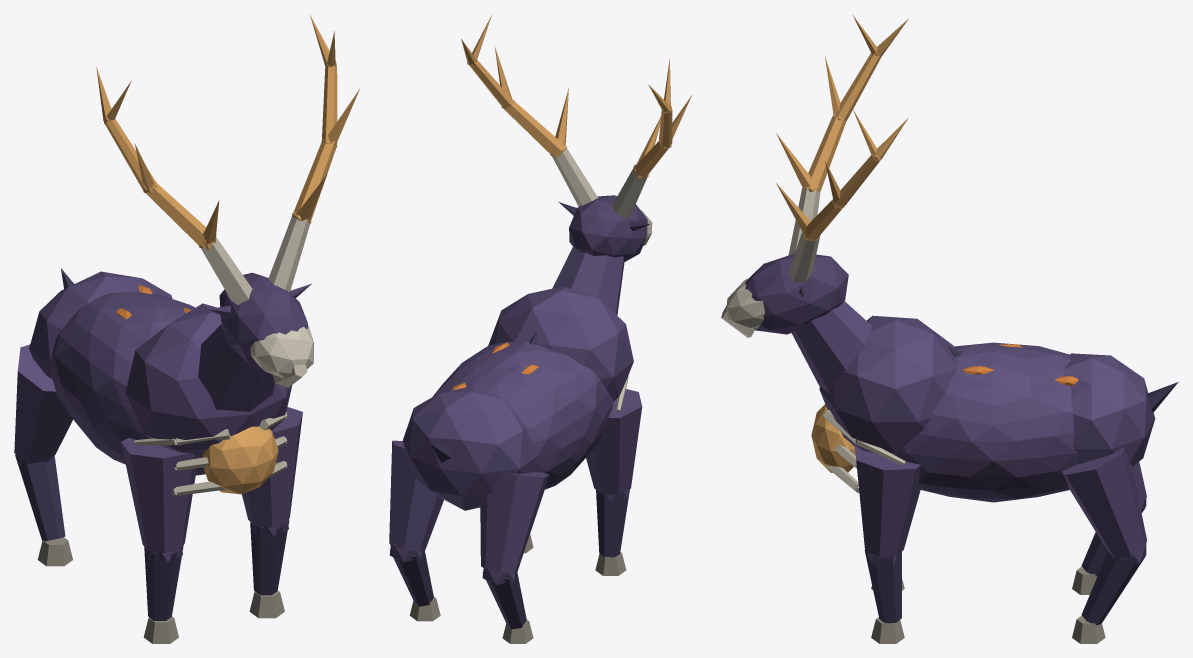
Rendered from boss_stag.glb.
3 renders of one model, left to right at view 1: azimuth 30°, elevation 25°; view 2: azimuth 150°, elevation 25°; view 3: azimuth 270°, elevation 25°, orthographic. The views are drawn at different scales.
Visible parts, largest first — view 1: boss_stag; view 2: boss_stag; view 3: boss_stag.
Boxes of the visible parts, x1,y1,x2,y2 form: boss_stag: (14,15,359,643); boss_stag: (389,15,691,643); boss_stag: (721,15,1178,643).
Size of the model in its own units: 2.72 by 6.53 by 4.9.
